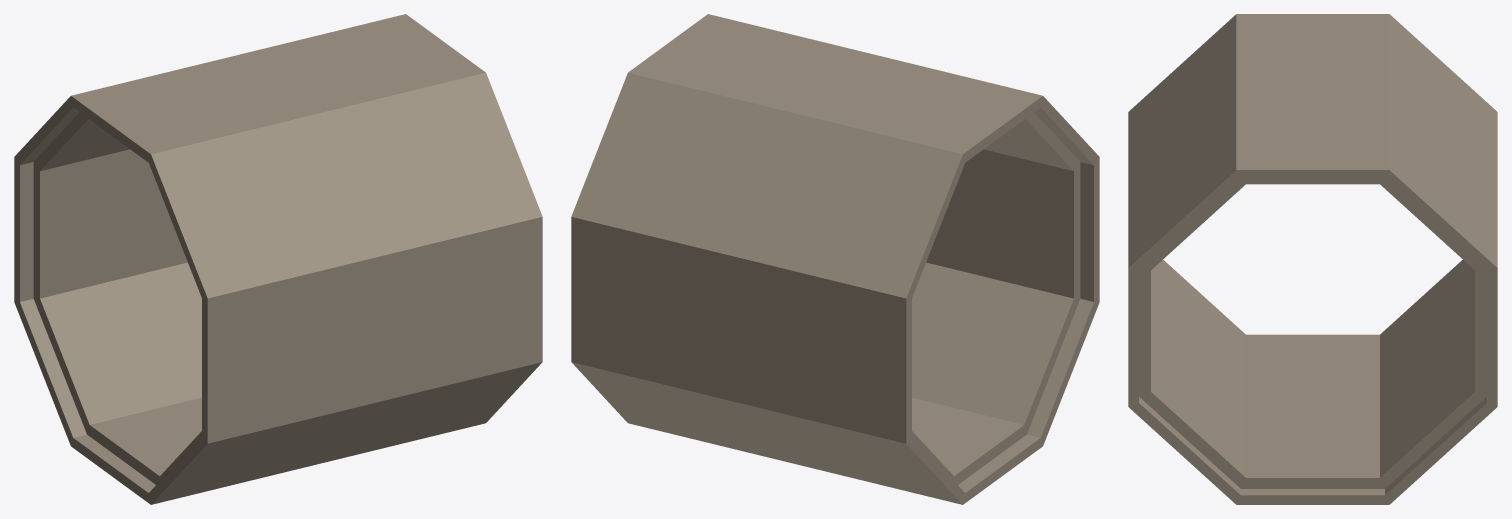
File: SM_concrete_pipe_01.glb
3 views of the same model, side by side, from view 1: azimuth 30°, elevation 25°; view 2: azimuth 150°, elevation 25°; view 3: azimuth 270°, elevation 25° (orthographic). The views are drawn at different scales.
Parts seen in each view (by area): view 1: SM_concrete_pipe_01; view 2: SM_concrete_pipe_01; view 3: SM_concrete_pipe_01.
Part boxes in pixels (x1,y1,x2,y2): SM_concrete_pipe_01: (14,14,542,504); SM_concrete_pipe_01: (571,14,1099,504); SM_concrete_pipe_01: (1128,14,1497,504).
Bounding box in the file's own units: 2 × 2 × 2.
Materials: 1 (1 with a texture image).
